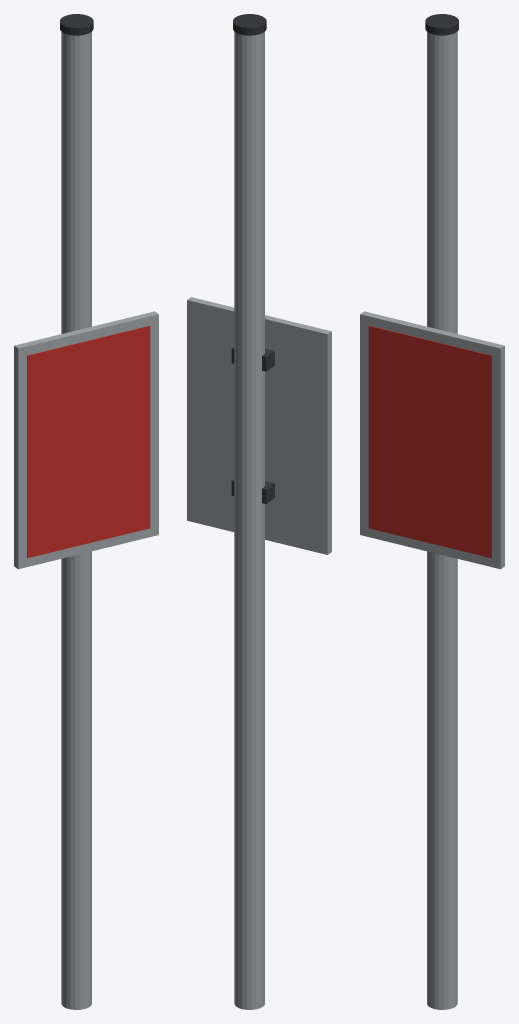
3 views of the same model, side by side, from view 1: azimuth 30°, elevation 25°; view 2: azimuth 150°, elevation 25°; view 3: azimuth 330°, elevation 25° (orthographic).
Visible parts, largest first — view 1: plateBottom=1.2;plateHeight=0.6;plateMaterial=brick;plateSha (×3); view 2: plateBottom=1.2;plateHeight=0.6;plateMaterial=brick;plateSha (×3); view 3: plateBottom=1.2;plateHeight=0.6;plateMaterial=brick;plateSha (×3).
Part boxes in pixels (left/top/right/bottom): plateBottom=1.2;plateHeight=0.6;plateMaterial=brick;plateSha (×3): left=14, top=14, right=158, bottom=1009; plateBottom=1.2;plateHeight=0.6;plateMaterial=brick;plateSha (×3): left=187, top=14, right=331, bottom=1009; plateBottom=1.2;plateHeight=0.6;plateMaterial=brick;plateSha (×3): left=360, top=14, right=504, bottom=1009.
Bounding box in the file's own units: 0.4 × 0.1018 × 2.67.
